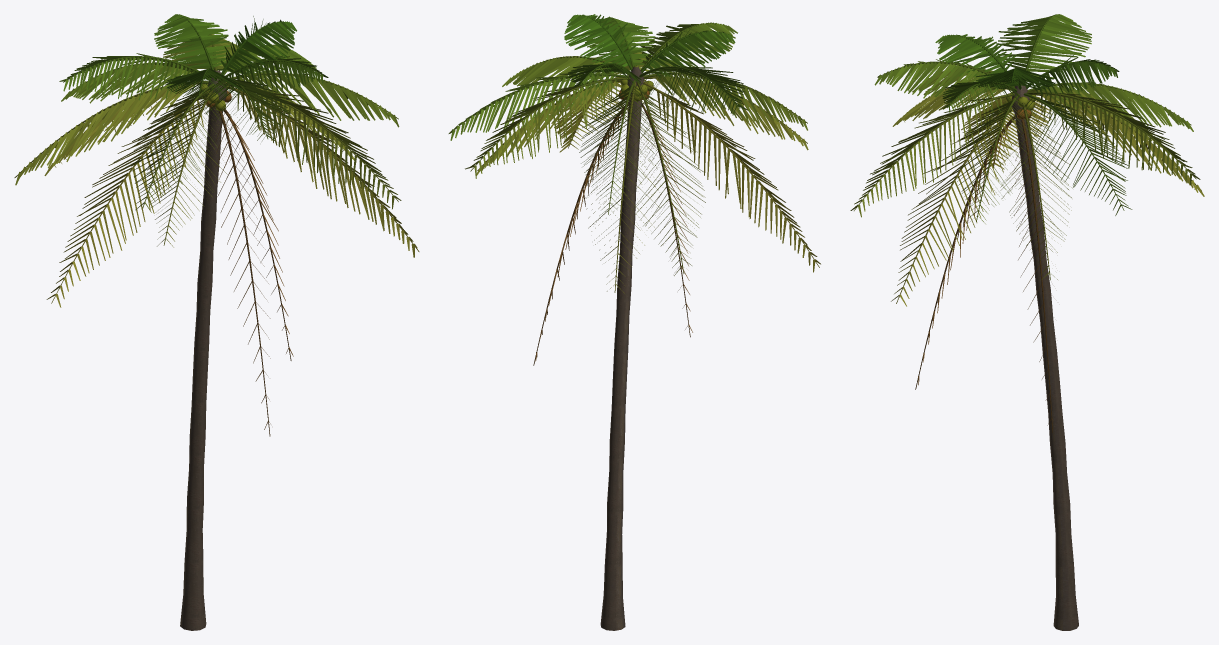
The model's file is palm_3.glb.
The picture shows the model from 3 angles, left to right: view 1: azimuth 30°, elevation 25°; view 2: azimuth 150°, elevation 25°; view 3: azimuth 270°, elevation 25°; orthographic projection. The views are drawn at different scales.
Parts seen in each view (by area): view 1: palm_3; view 2: palm_3; view 3: palm_3.
Part boxes in pixels (x1,y1,x2,y2): palm_3: (14, 14, 419, 630); palm_3: (448, 14, 820, 630); palm_3: (850, 14, 1204, 630).
Size of the model in its own units: 8.16 by 14.01 by 7.76.
Materials: 3 (1 with a texture image).
